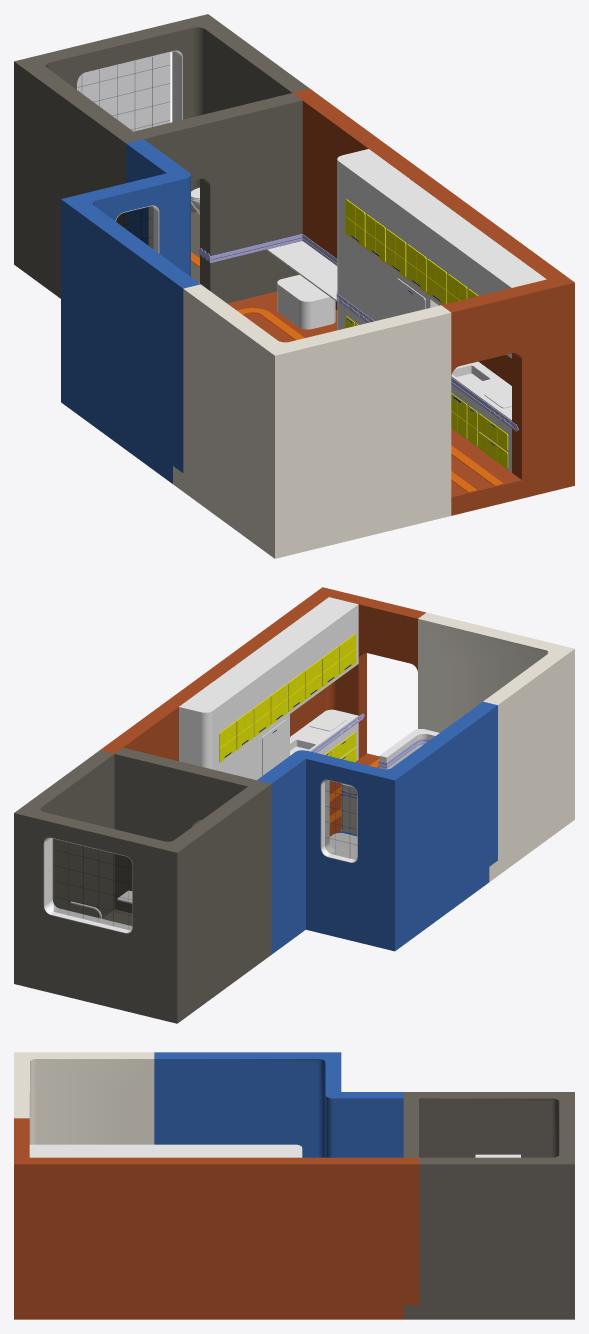
The model's file is vision typeA OptionA.glb.
3 views of the same model, one above another, from view 1: azimuth 30°, elevation 25°; view 2: azimuth 150°, elevation 25°; view 3: azimuth 270°, elevation 25° (orthographic). The views are drawn at different scales.
Parts seen in each view (by area): view 1: 客厅墙, 厕所墙, 卧室墙, 厨房墙, 橱柜，木制或者整体性强的材质, 柜门，区别于整体的柜子, 玻璃, 木板, 触摸板, 窗框（金属）, 椅子（软）, PATH (+1 smaller); view 2: 厕所墙, 卧室墙, 客厅墙, 橱柜，木制或者整体性强的材质, 厨房墙, 玻璃, 柜门，区别于整体的柜子, 窗框（金属）, 洗碗机玻璃, 沙发15MM 软包边-皮质, 储物柜，木制或者整体性强的材质, 触摸板; view 3: 厨房墙, 厕所墙, 卧室墙, 客厅墙, 橱柜，木制或者整体性强的材质.
Boxes of the visible parts, box(x1,y1,x2,y2) form: 客厅墙: box(173, 284, 451, 558); 厕所墙: box(14, 14, 309, 303); 卧室墙: box(61, 139, 200, 483); 厨房墙: box(227, 88, 574, 515); 橱柜，木制或者整体性强的材质: box(337, 149, 546, 472); 柜门，区别于整体的柜子: box(345, 199, 508, 468); 玻璃: box(78, 52, 169, 248); 木板: box(267, 241, 338, 302); 触摸板: box(199, 234, 518, 431); 窗框（金属）: box(77, 50, 182, 253); 椅子（软）: box(277, 274, 335, 311); PATH: box(191, 252, 503, 492); 厕所墙: box(14, 747, 271, 1023); 卧室墙: box(257, 701, 497, 954); 客厅墙: box(341, 612, 574, 881); 橱柜，木制或者整体性强的材质: box(179, 597, 358, 780); 厨房墙: box(100, 587, 425, 835); 玻璃: box(54, 780, 356, 929); 柜门，区别于整体的柜子: box(219, 634, 356, 762); 窗框（金属）: box(43, 779, 357, 933); 洗碗机玻璃: box(263, 722, 285, 774); 沙发15MM 软包边-皮质: box(379, 729, 439, 769); 储物柜，木制或者整体性强的材质: box(341, 783, 357, 834); 触摸板: box(311, 713, 429, 798); 厨房墙: box(14, 1118, 419, 1319); 厕所墙: box(403, 1092, 574, 1319); 卧室墙: box(154, 1052, 403, 1157); 客厅墙: box(14, 1052, 154, 1144); 橱柜，木制或者整体性强的材质: box(29, 1144, 302, 1157).
Size of the model in its own units: 5.1 by 3.3 by 10.8.
